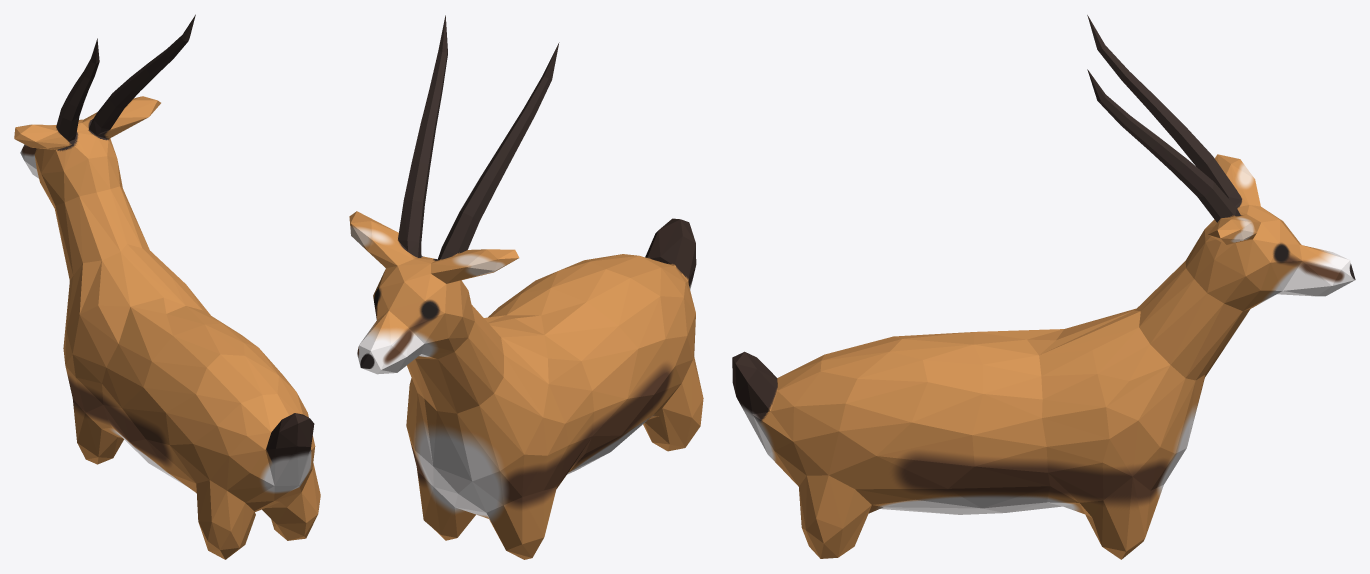
File: animal_gazelle_blob.obj
3 views of the same model, side by side, from view 1: azimuth 30°, elevation 25°; view 2: azimuth 150°, elevation 25°; view 3: azimuth 270°, elevation 25° (orthographic). The views are drawn at different scales.
Parts seen in each view (by area): view 1: animal_gazelle_blob; view 2: animal_gazelle_blob; view 3: animal_gazelle_blob.
Part boxes in pixels (x1,y1,x2,y2): animal_gazelle_blob: [14, 14, 320, 559]; animal_gazelle_blob: [349, 15, 703, 559]; animal_gazelle_blob: [732, 15, 1355, 559].
Bounding box in the file's own units: 0.3158 × 0.9043 × 1.02.
